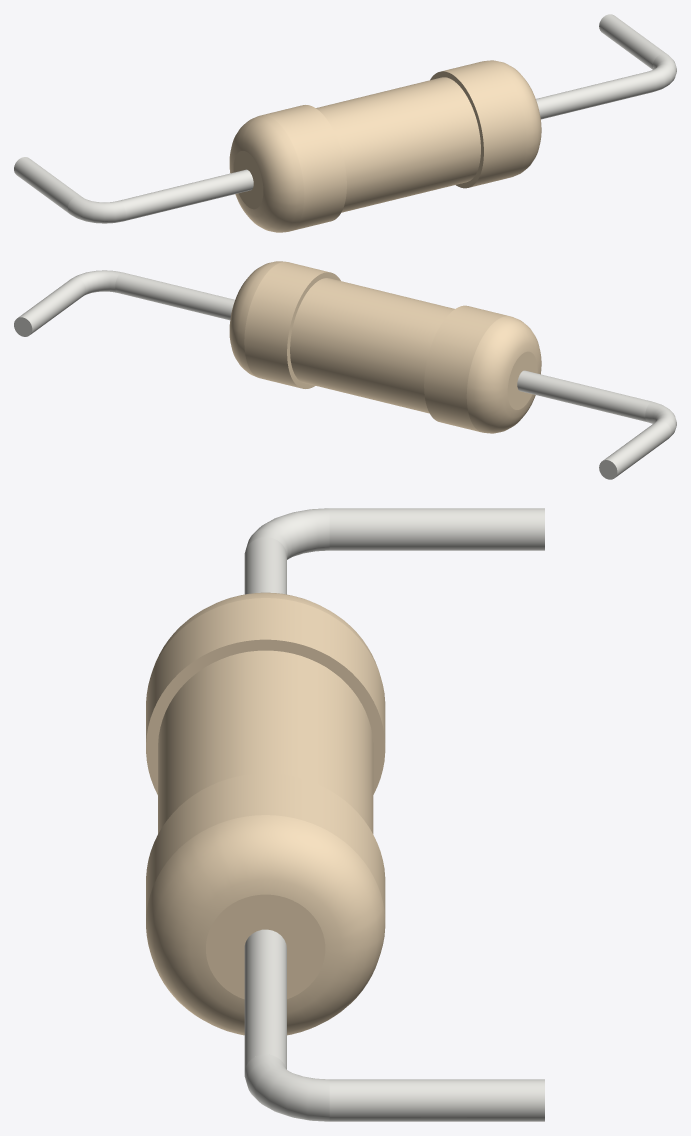
Rendered from R_Axial_DIN0414_L11.9mm_D4.5mm_P25.40mm_Horizontal.glb.
3 views of the same model, one above another, from view 1: azimuth 30°, elevation 25°; view 2: azimuth 150°, elevation 25°; view 3: azimuth 270°, elevation 25° (orthographic). The views are drawn at different scales.
Parts seen in each view (by area): view 1: Shape_IndexedFaceSet.004, Shape_IndexedFaceSet.001, Shape_IndexedFaceSet.008, Shape_IndexedFaceSet, Shape_IndexedFaceSet.005, Shape_IndexedFaceSet.013, Shape_IndexedFaceSet.010, Shape_IndexedFaceSet.009, Shape_IndexedFaceSet.015, Shape_IndexedFaceSet.007, Shape_IndexedFaceSet.003, Shape_IndexedFaceSet.014 (+1 smaller); view 2: Shape_IndexedFaceSet.004, Shape_IndexedFaceSet.001, Shape_IndexedFaceSet.008, Shape_IndexedFaceSet, Shape_IndexedFaceSet.005, Shape_IndexedFaceSet.013, Shape_IndexedFaceSet.010, Shape_IndexedFaceSet.015, Shape_IndexedFaceSet.009, Shape_IndexedFaceSet.003, Shape_IndexedFaceSet.014, Shape_IndexedFaceSet.006 (+1 smaller); view 3: Shape_IndexedFaceSet.010, Shape_IndexedFaceSet.004, Shape_IndexedFaceSet.008, Shape_IndexedFaceSet, Shape_IndexedFaceSet.009, Shape_IndexedFaceSet.015, Shape_IndexedFaceSet.012, Shape_IndexedFaceSet.013, Shape_IndexedFaceSet.002, Shape_IndexedFaceSet.014, Shape_IndexedFaceSet.007, Shape_IndexedFaceSet.005 (+1 smaller).
Part boxes in pixels (x1,y1,x2,y2): Shape_IndexedFaceSet.004: [316, 77, 480, 212]; Shape_IndexedFaceSet.001: [229, 115, 304, 232]; Shape_IndexedFaceSet.008: [442, 61, 526, 187]; Shape_IndexedFaceSet: [262, 105, 346, 230]; Shape_IndexedFaceSet.005: [118, 169, 253, 221]; Shape_IndexedFaceSet.013: [536, 71, 655, 119]; Shape_IndexedFaceSet.010: [487, 60, 541, 176]; Shape_IndexedFaceSet.009: [14, 157, 81, 213]; Shape_IndexedFaceSet.015: [599, 14, 666, 69]; Shape_IndexedFaceSet.007: [68, 196, 125, 223]; Shape_IndexedFaceSet.003: [233, 151, 263, 209]; Shape_IndexedFaceSet.014: [648, 53, 676, 91]; Shape_IndexedFaceSet.004: [290, 278, 454, 413]; Shape_IndexedFaceSet.001: [466, 316, 541, 433]; Shape_IndexedFaceSet.008: [244, 261, 328, 388]; Shape_IndexedFaceSet: [424, 305, 507, 432]; Shape_IndexedFaceSet.005: [517, 370, 651, 421]; Shape_IndexedFaceSet.013: [115, 272, 234, 320]; Shape_IndexedFaceSet.010: [229, 261, 284, 376]; Shape_IndexedFaceSet.015: [18, 278, 85, 334]; Shape_IndexedFaceSet.009: [603, 420, 671, 476]; Shape_IndexedFaceSet.003: [507, 351, 537, 409]; Shape_IndexedFaceSet.014: [73, 270, 121, 295]; Shape_IndexedFaceSet.006: [287, 272, 340, 388]; Shape_IndexedFaceSet.010: [146, 815, 385, 1035]; Shape_IndexedFaceSet.004: [158, 650, 373, 833]; Shape_IndexedFaceSet.008: [146, 773, 385, 917]; Shape_IndexedFaceSet: [146, 598, 385, 742]; Shape_IndexedFaceSet.009: [329, 508, 544, 550]; Shape_IndexedFaceSet.015: [329, 1079, 544, 1121]; Shape_IndexedFaceSet.012: [206, 894, 325, 999]; Shape_IndexedFaceSet.013: [244, 929, 286, 1069]; Shape_IndexedFaceSet.002: [146, 639, 385, 794]; Shape_IndexedFaceSet.014: [244, 1054, 329, 1121]; Shape_IndexedFaceSet.007: [246, 508, 329, 559]; Shape_IndexedFaceSet.005: [244, 537, 286, 594].
Size of the model in its own units: 10.31 by 1.77 by 2.95.
